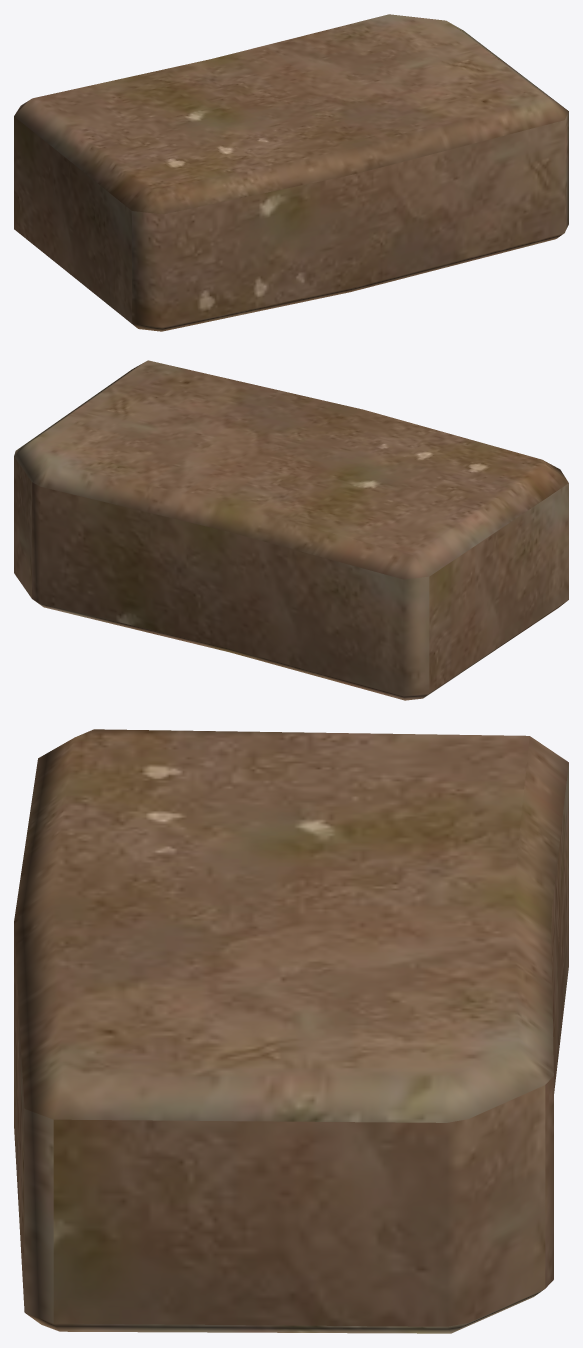
3 views of the same model, one above another, from view 1: azimuth 30°, elevation 25°; view 2: azimuth 150°, elevation 25°; view 3: azimuth 270°, elevation 25° (orthographic). The views are drawn at different scales.
Visible parts, largest first — view 1: SM_Human_Ruins_Floor_Slab_01_LOD0; view 2: SM_Human_Ruins_Floor_Slab_01_LOD0; view 3: SM_Human_Ruins_Floor_Slab_01_LOD0.
Part boxes in pixels (x1,y1,x2,y2): SM_Human_Ruins_Floor_Slab_01_LOD0: (14, 14, 568, 331); SM_Human_Ruins_Floor_Slab_01_LOD0: (14, 360, 568, 700); SM_Human_Ruins_Floor_Slab_01_LOD0: (14, 729, 568, 1333).
Bounding box in the file's own units: 0.7948 × 0.2392 × 0.488.
1 material, 1 textured.
